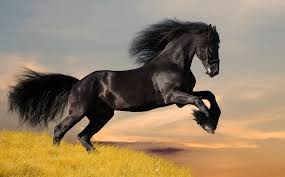horse: (21, 12, 230, 149)
